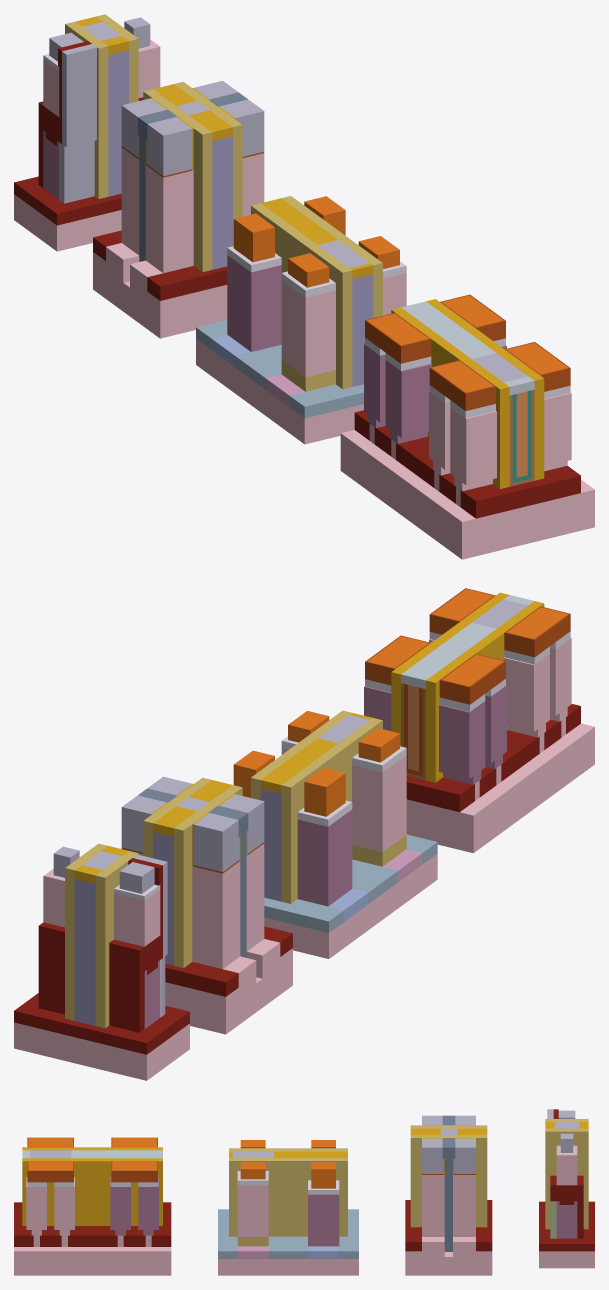
The model's file is cmp.obj.
The picture shows the model from 3 angles, top to bottom: view 1: azimuth 30°, elevation 25°; view 2: azimuth 150°, elevation 25°; view 3: azimuth 270°, elevation 25°; orthographic projection. The views are drawn at different scales.
Visible parts, largest first — view 1: inv_fin_n_substrate, fs_substrate, cfet_mono_ni_lo_source, inv_fin_n_epi_source, inv_fin_p_epi_source, fs_epi_n_source, ns_n_epi_source, ns_p_epi_source, inv_fin_n_sti, fs_spacer_n_source, inv_fin_p_substrate, ns_n_substrate (+48 smaller); view 2: fs_substrate, inv_fin_p_substrate, inv_fin_p_epi_source, inv_fin_n_epi_source, fs_epi_p_source, cfet_mono_substrate, ns_p_epi_source, ns_n_epi_source, cfet_mono_box, cfet_mono_iso_source, cfet_mono_mo, cfet_mono_spacer_source (+51 smaller); view 3: fs_substrate, inv_fin_n_substrate, inv_fin_p_substrate, inv_fin_b_spacers, cfet_mono_spacer_drain, inv_fin_n_epi_drain, inv_fin_p_epi_drain, ns_b_spacers, ns_p_spacer_drain, ns_n_spacer_drain, ns_p_epi_drain, ns_n_epi_drain (+44 smaller).
Part boxes in pixels (bbox=[...]): inv_fin_n_substrate: bbox=[405, 477, 594, 559]; fs_substrate: bbox=[93, 243, 227, 338]; cfet_mono_ni_lo_source: bbox=[60, 44, 96, 203]; inv_fin_n_epi_source: bbox=[429, 391, 496, 491]; inv_fin_p_epi_source: bbox=[364, 344, 431, 443]; fs_epi_n_source: bbox=[145, 165, 193, 273]; ns_n_epi_source: bbox=[281, 280, 335, 377]; ns_p_epi_source: bbox=[227, 255, 281, 351]; inv_fin_n_sti: bbox=[419, 457, 580, 518]; fs_spacer_n_source: bbox=[176, 113, 212, 272]; inv_fin_p_substrate: bbox=[340, 430, 410, 511]; ns_n_substrate: bbox=[250, 379, 363, 444]; fs_substrate: bbox=[165, 939, 292, 1034]; inv_fin_p_substrate: bbox=[406, 771, 530, 853]; inv_fin_p_epi_source: bbox=[439, 685, 506, 784]; inv_fin_n_epi_source: bbox=[503, 637, 571, 737]; fs_epi_p_source: bbox=[192, 861, 240, 969]; cfet_mono_substrate: bbox=[14, 1022, 189, 1080]; ns_p_epi_source: bbox=[297, 809, 352, 906]; ns_n_epi_source: bbox=[352, 755, 406, 852]; cfet_mono_box: bbox=[14, 993, 189, 1054]; cfet_mono_iso_source: bbox=[109, 935, 160, 1032]; cfet_mono_mo: bbox=[74, 879, 95, 1025]; cfet_mono_spacer_source: bbox=[95, 851, 138, 1028]; fs_substrate: bbox=[405, 1237, 492, 1275]; inv_fin_n_substrate: bbox=[14, 1247, 87, 1275]; inv_fin_p_substrate: bbox=[98, 1247, 171, 1275]; inv_fin_b_spacers: bbox=[79, 1147, 106, 1225]; cfet_mono_spacer_drain: bbox=[545, 1128, 588, 1229]; inv_fin_n_epi_drain: bbox=[26, 1177, 74, 1235]; inv_fin_p_epi_drain: bbox=[110, 1177, 158, 1235]; ns_b_spacers: bbox=[277, 1148, 299, 1236]; ns_p_spacer_drain: bbox=[299, 1158, 347, 1236]; ns_n_spacer_drain: bbox=[229, 1158, 277, 1236]; ns_p_epi_drain: bbox=[308, 1194, 339, 1246]; ns_n_epi_drain: bbox=[237, 1185, 268, 1236].
Bounding box in the file's own units: 96 × 138 × 561.
